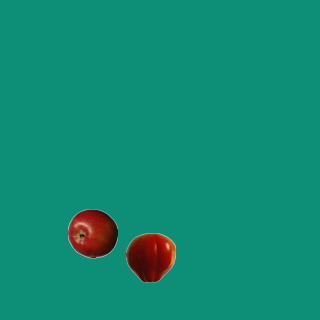Apple Braeburn: (67, 208, 117, 258)
Tomato 1: (125, 232, 175, 282)
